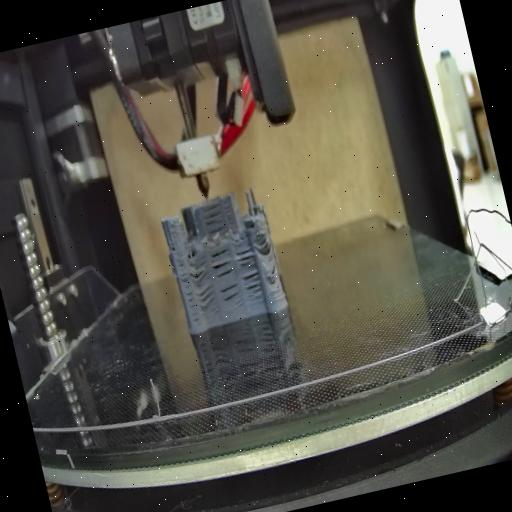cracks: (180, 266, 202, 326), (200, 200, 230, 238), (209, 248, 237, 280), (218, 280, 246, 312), (240, 269, 266, 303), (196, 284, 220, 310), (235, 246, 256, 270), (188, 260, 210, 282), (254, 234, 274, 256), (267, 259, 281, 275), (168, 239, 178, 257)
